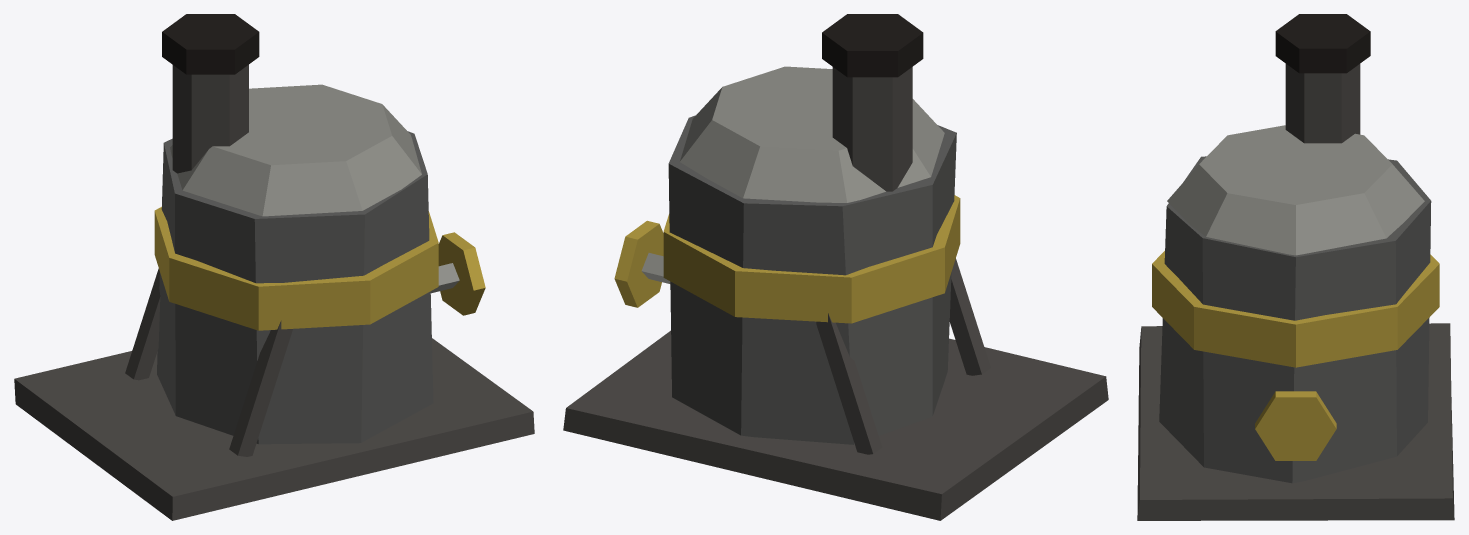
Rendered from util_sprout.glb.
3 views of the same model, side by side, from view 1: azimuth 30°, elevation 25°; view 2: azimuth 150°, elevation 25°; view 3: azimuth 270°, elevation 25° (orthographic). The views are drawn at different scales.
Visible parts, largest first — view 1: util_sprout; view 2: util_sprout; view 3: util_sprout.
Part boxes in pixels (x1,y1,x2,y2): util_sprout: (14, 14, 534, 520); util_sprout: (563, 14, 1108, 520); util_sprout: (1137, 14, 1454, 520).
Bounding box in the file's own units: 0.62 × 0.618 × 0.4672.
